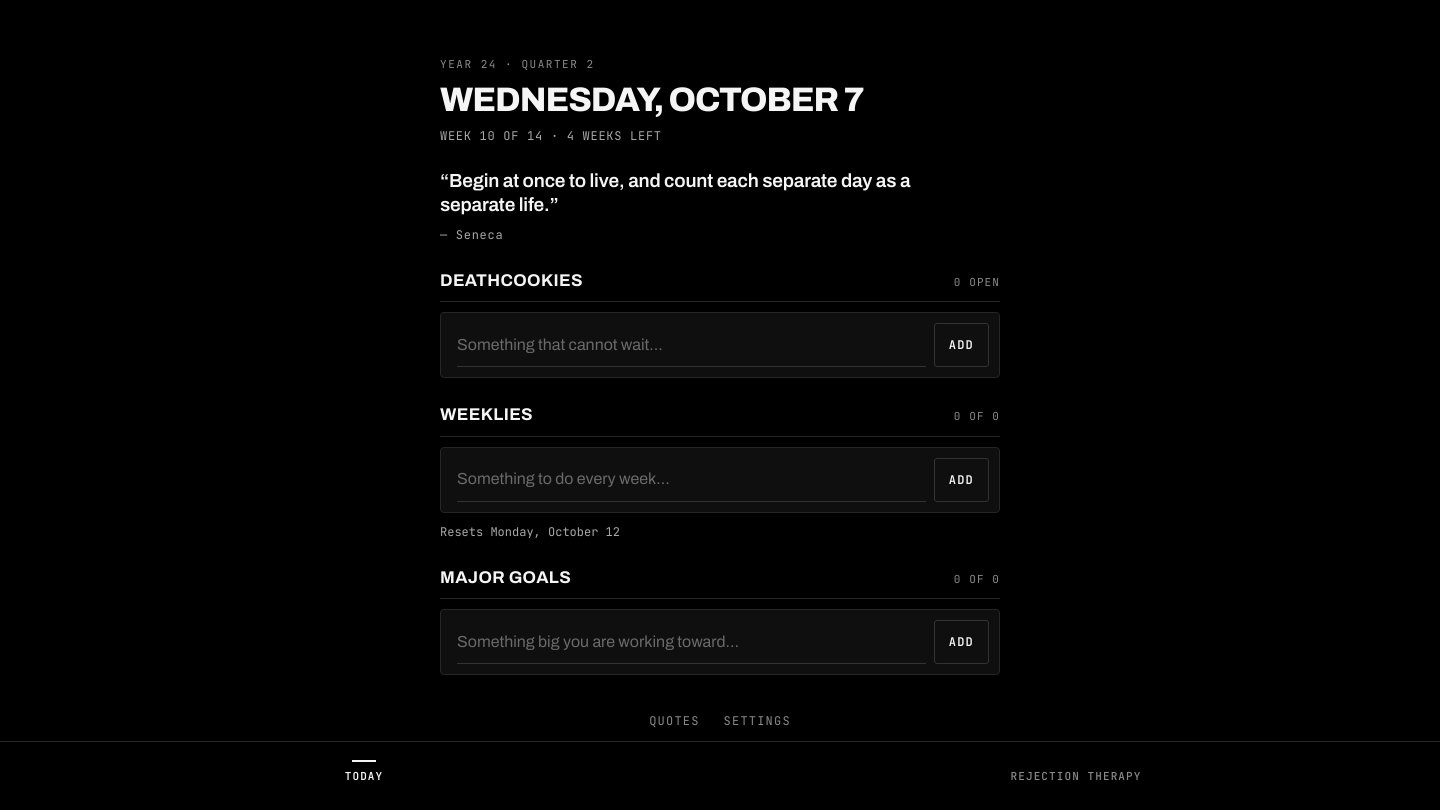
Test: settings › switches the daily reminder on and changes its time
Click the button "Settings".
click(757, 721)  # box top-left (720, 699), bottom-right (795, 743)
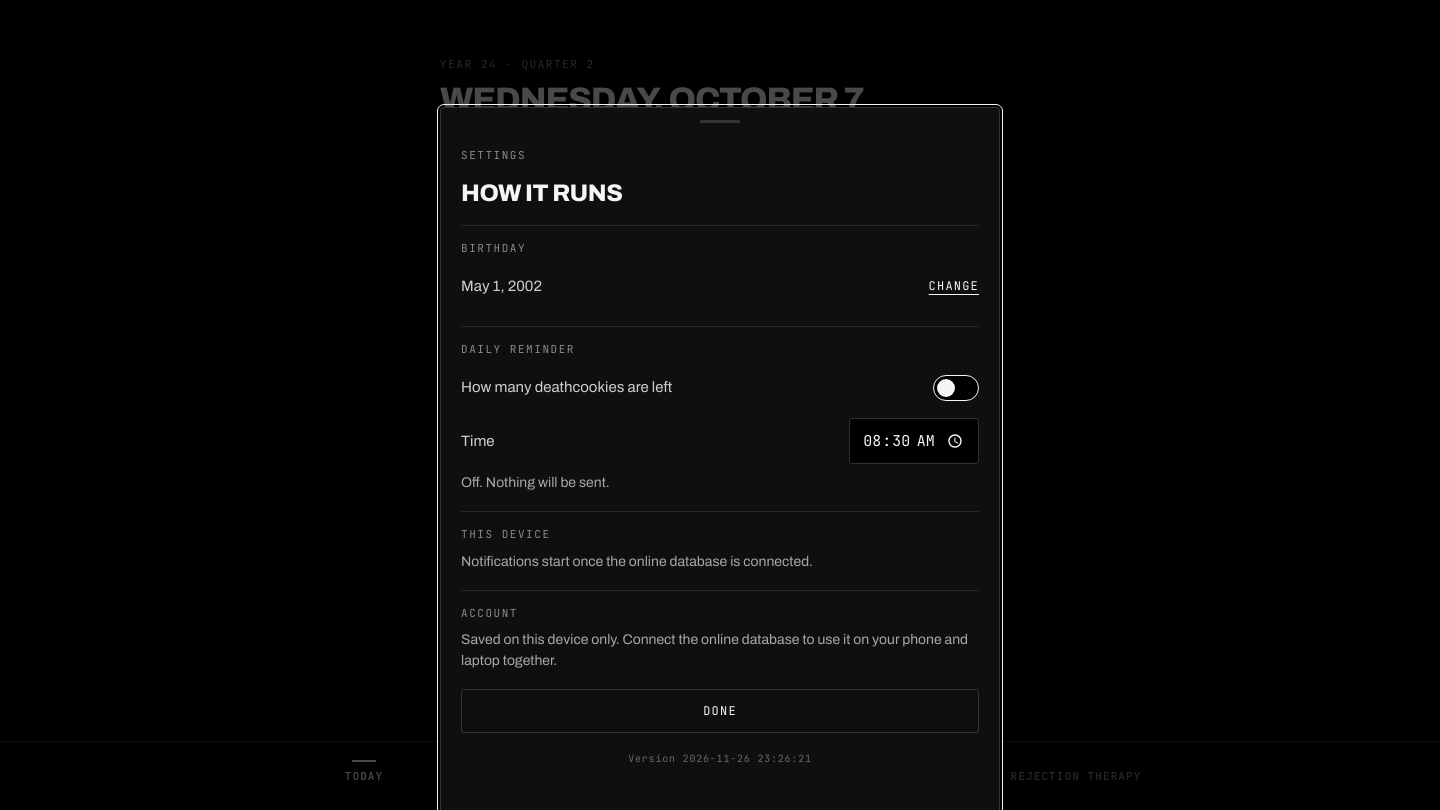
Click the switch named "How many deathcookies are left".
click(956, 388)  # box top-left (933, 374), bottom-right (979, 400)
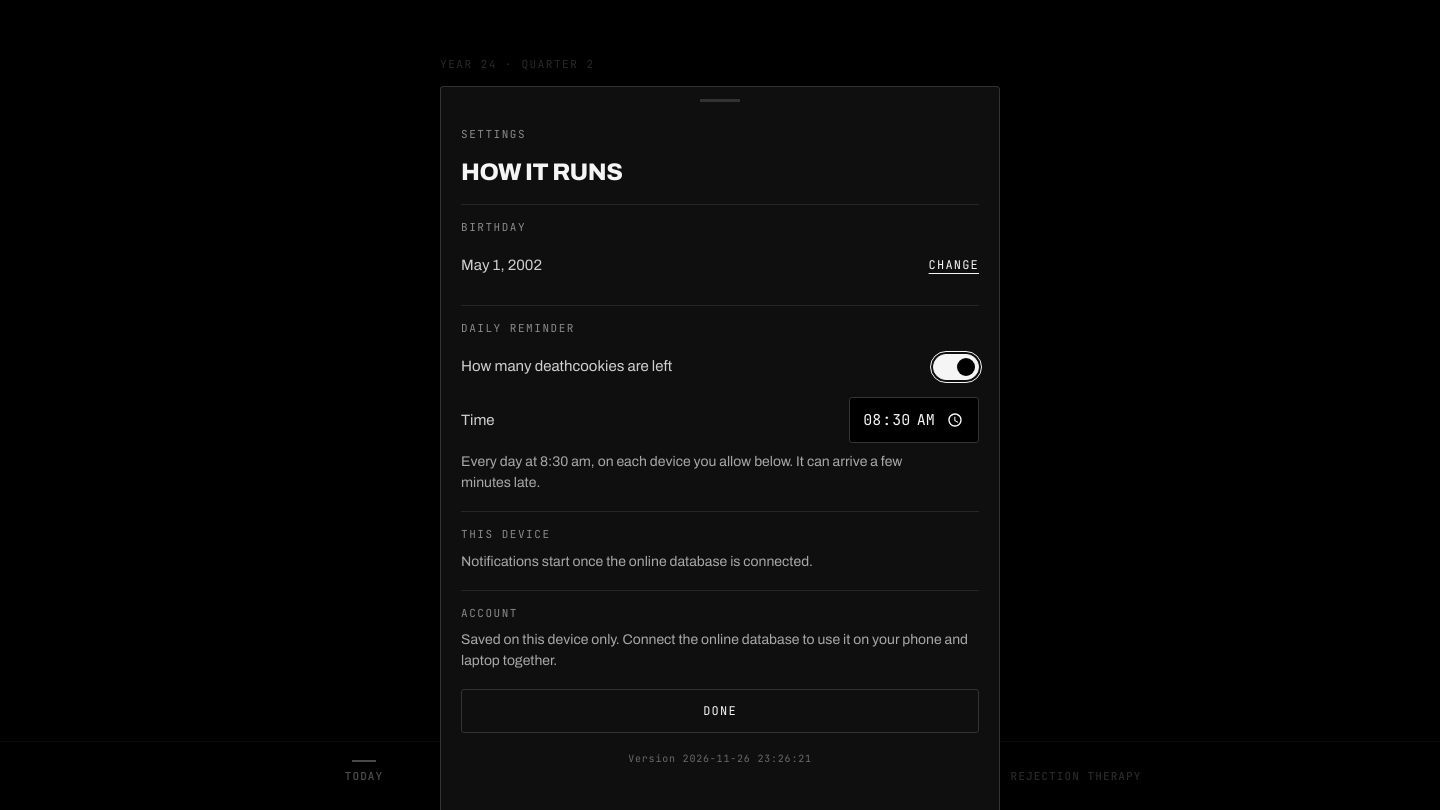
Expected: the text "Every day at 8:30 am" is shown, top-left (461, 454), bottom-right (902, 490)
